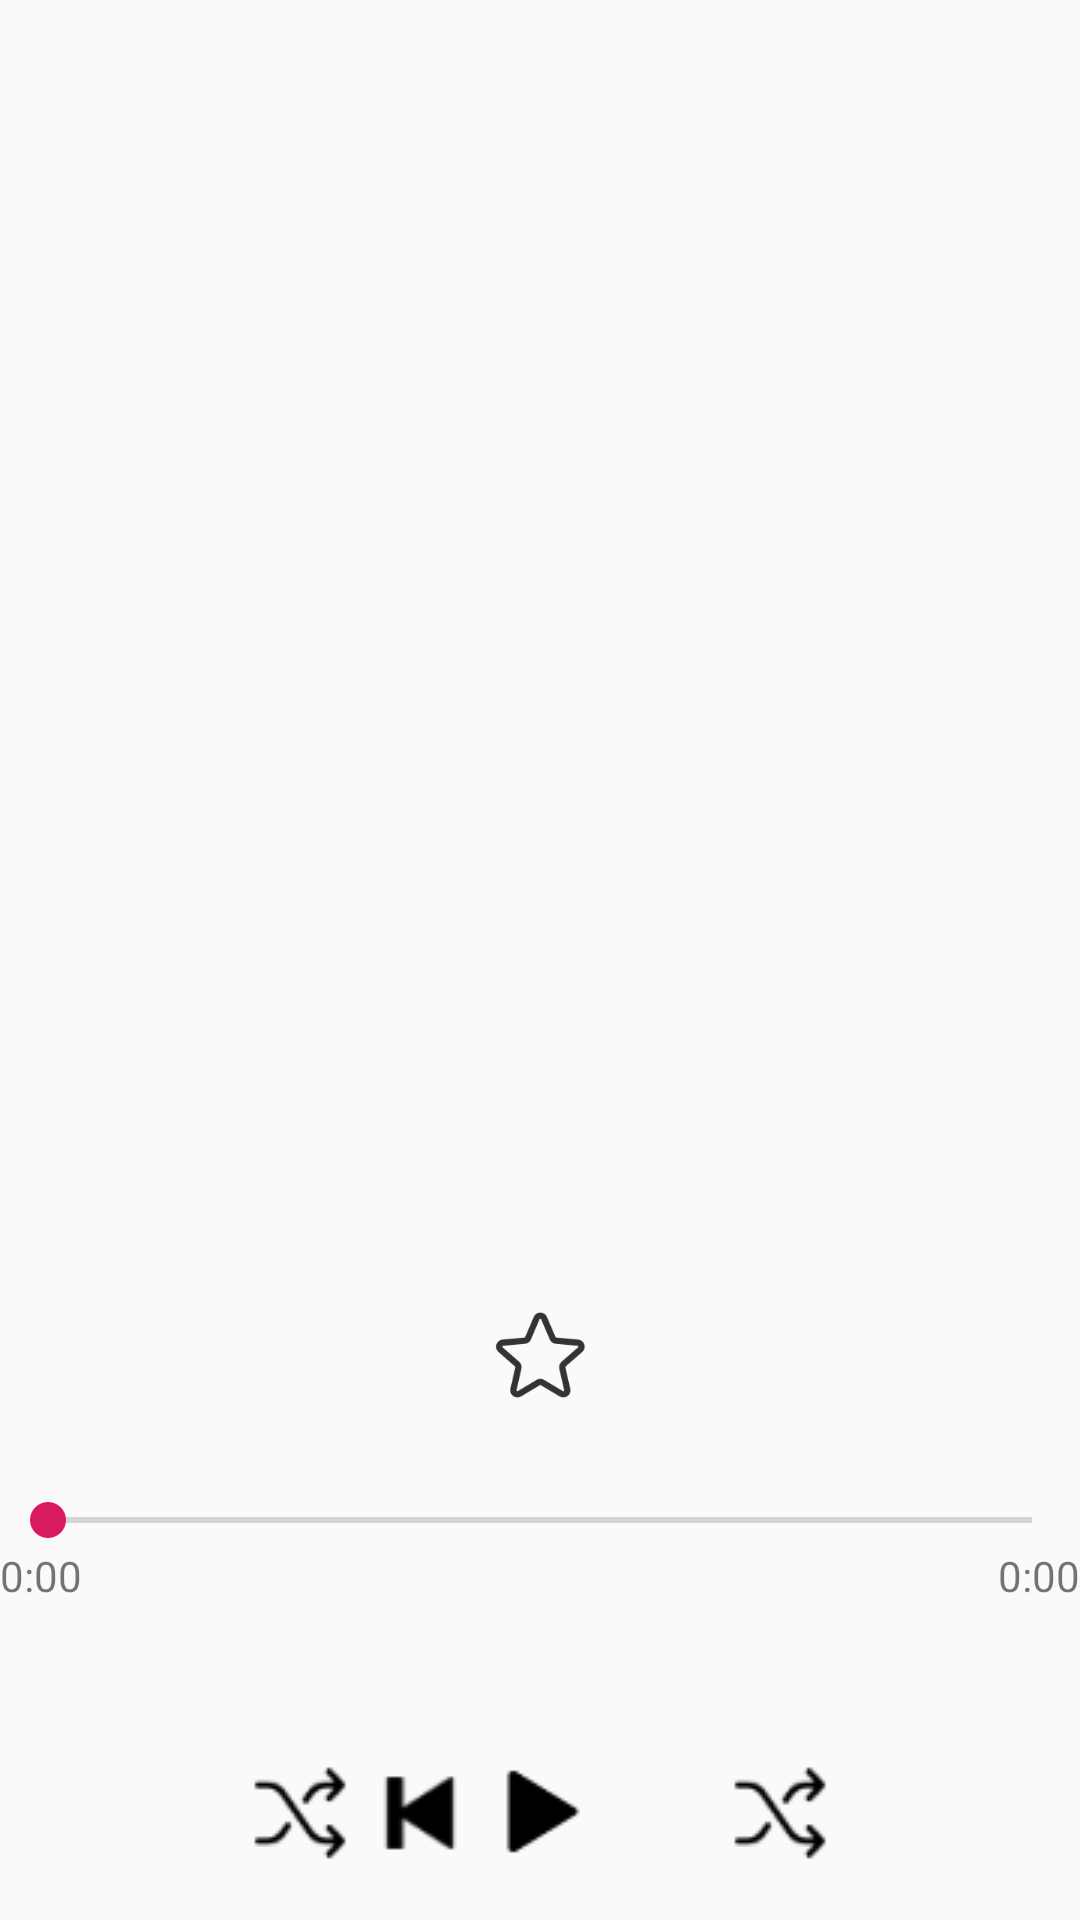

Named icons in this screenshot (1080*1920) and their centers, (x,y):
favorite off: (540,1355)
play: (543,1811)
prev: (420,1813)
shuffle: (300,1813), (780,1813)
